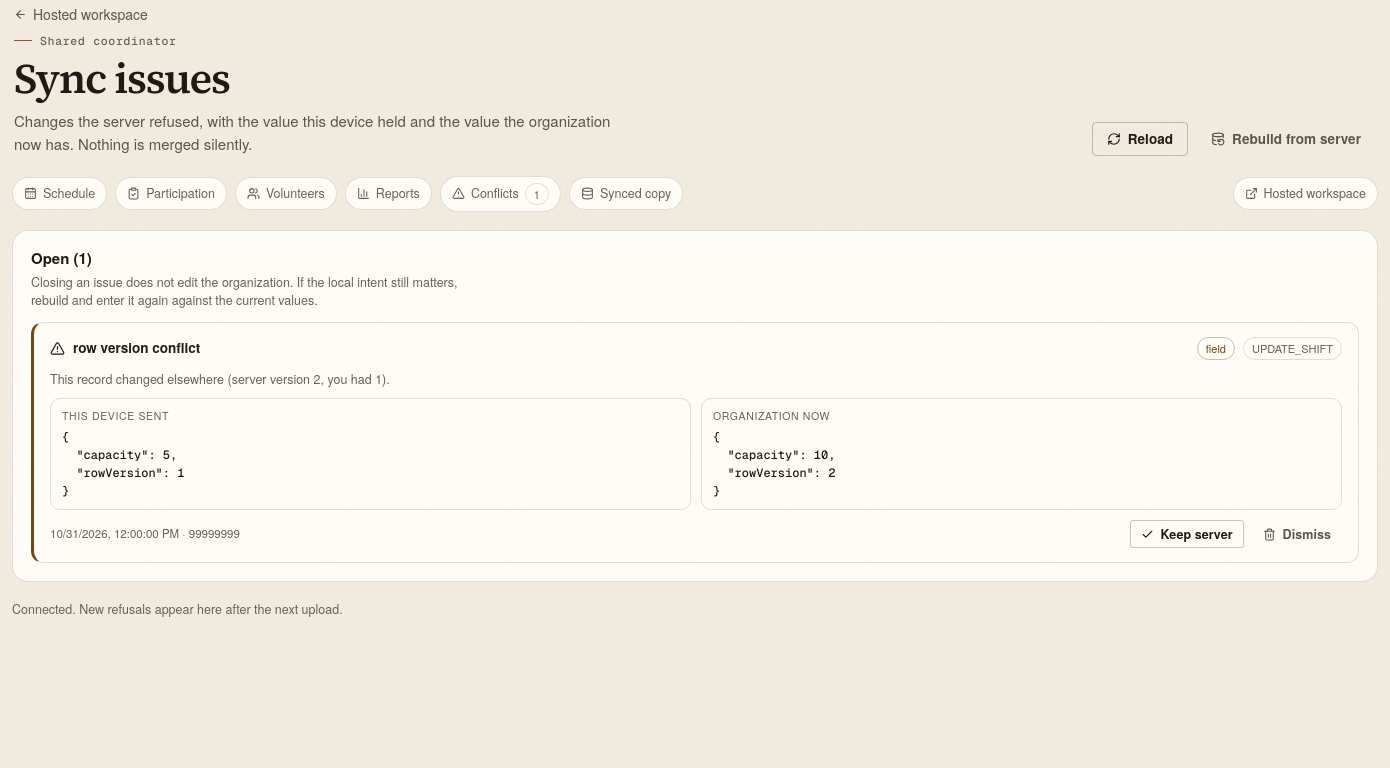
Test: two devices, one shift › closing with the server value keeps the organization untouched
Click the button "Keep server".
click(1187, 534)  # box [1130,520,1244,548]
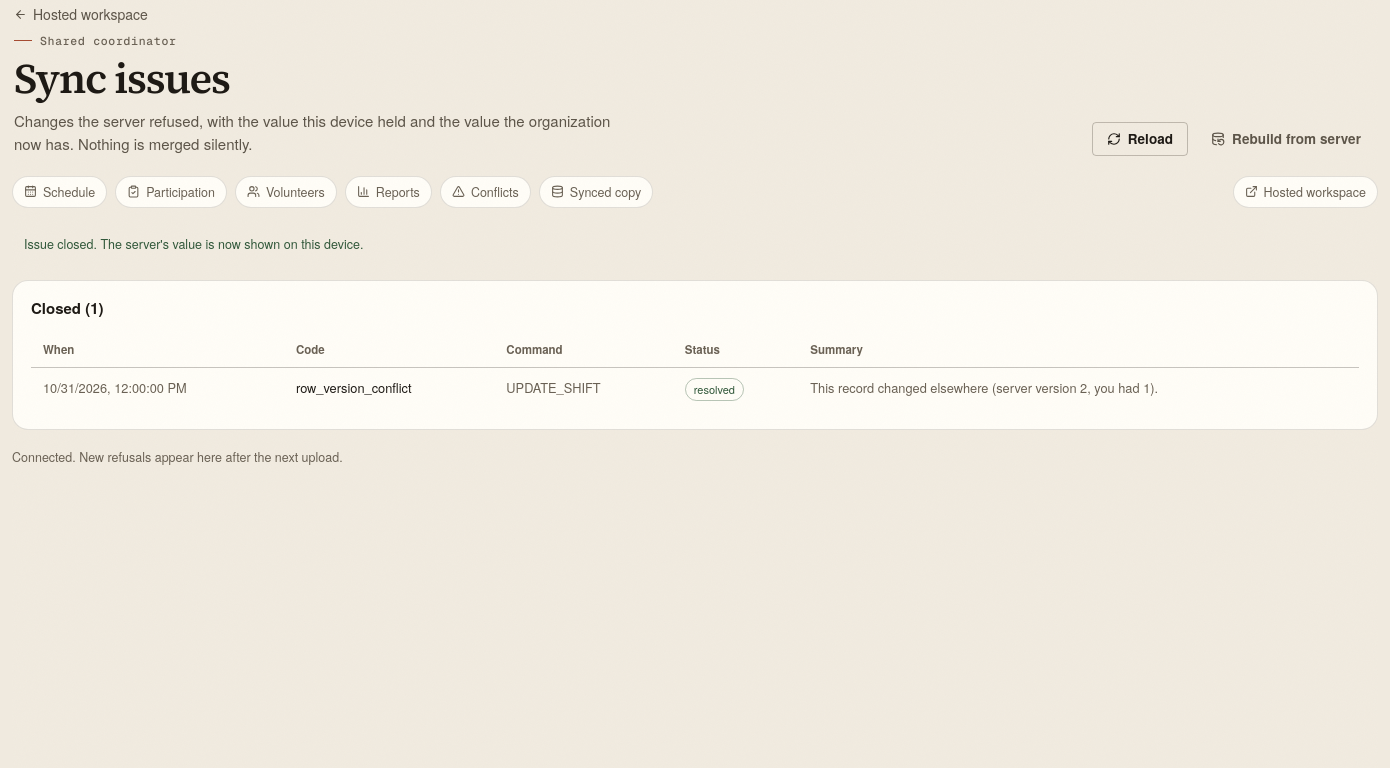
Now the heading "Closed (1)" is shown, box [31,298,104,320]
